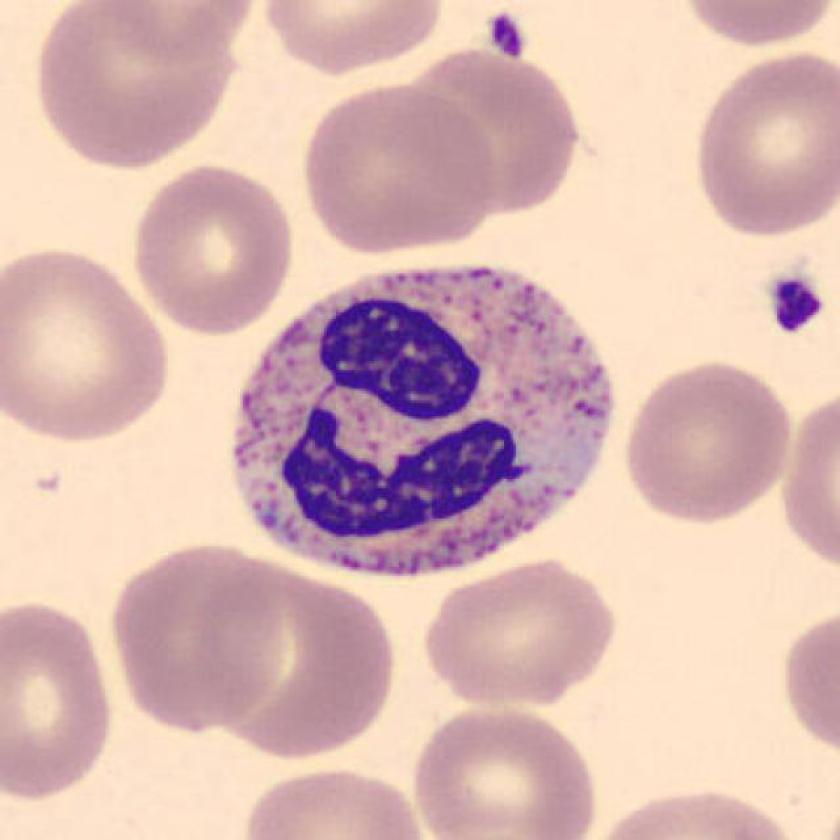neutrophil: (235, 269, 614, 580)
